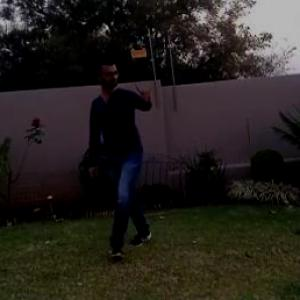takeoff-hand: (133, 76, 158, 112)
